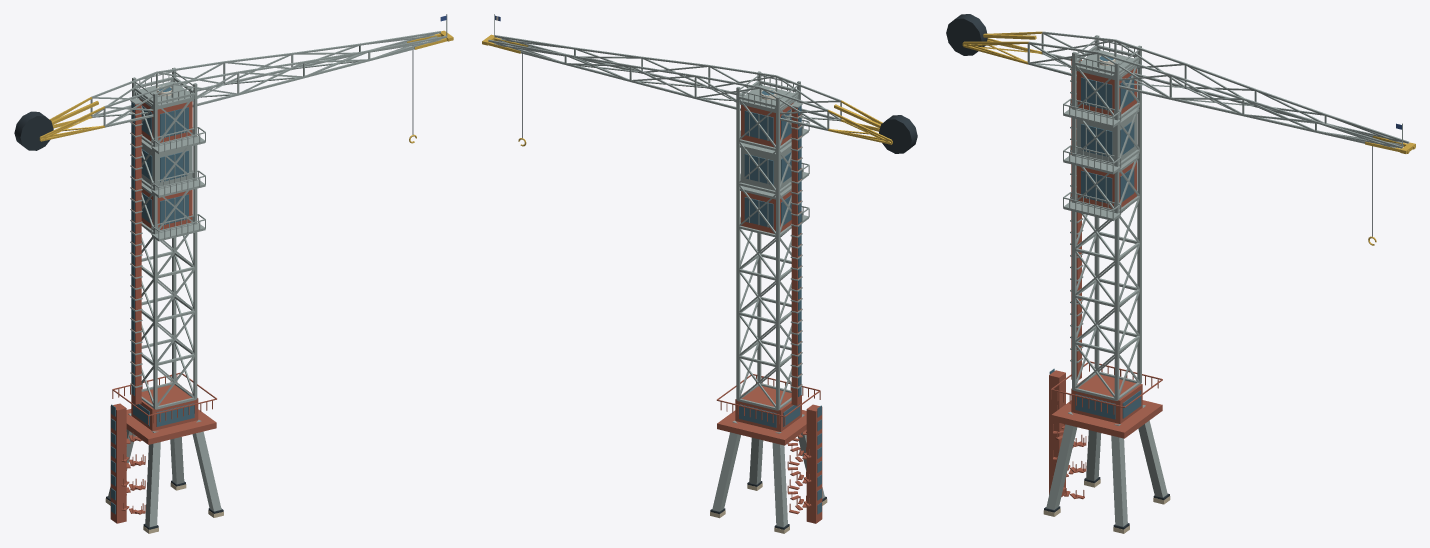
The model's file is faralda-crane-hotel.glb.
3 renders of one model, left to right at view 1: azimuth 30°, elevation 25°; view 2: azimuth 150°, elevation 25°; view 3: azimuth 330°, elevation 25°, orthographic. The views are drawn at different scales.
Parts seen in each view (by area): view 1: faralda-crane-hotel; view 2: faralda-crane-hotel; view 3: faralda-crane-hotel.
Part boxes in pixels (x1,y1,x2,y2): faralda-crane-hotel: (14,14,453,533); faralda-crane-hotel: (482,14,917,533); faralda-crane-hotel: (946,14,1415,533).
Size of the model in its own units: 51.91 by 49.49 by 9.
